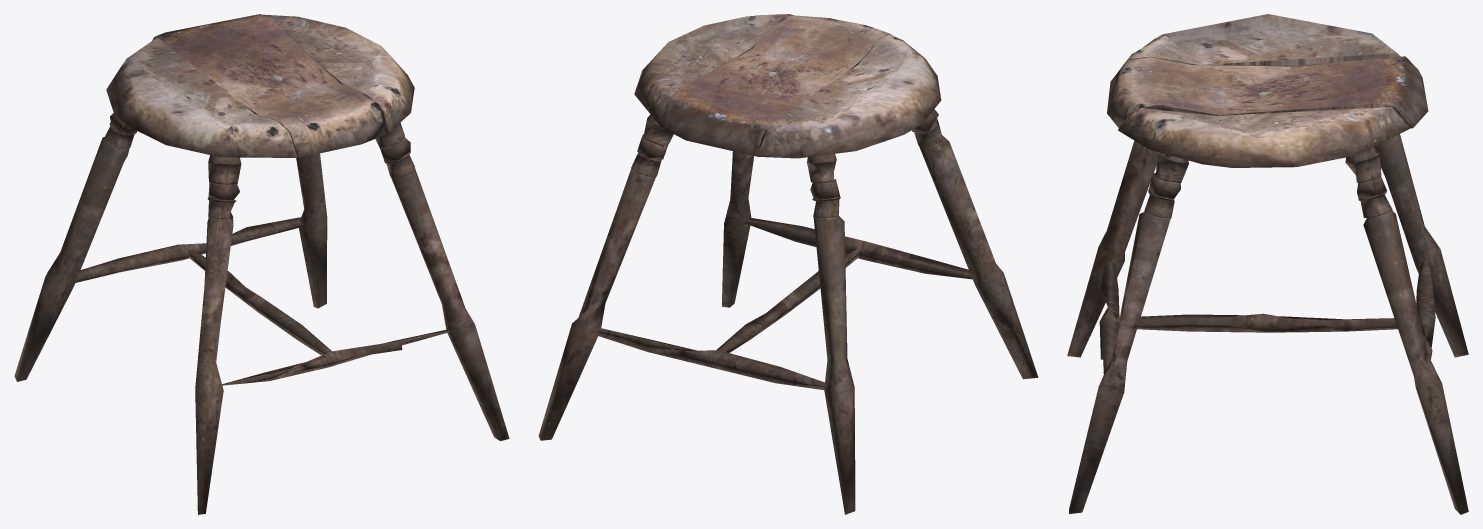
Rendered from wooden_stool_01.glb.
3 views of the same model, side by side, from view 1: azimuth 30°, elevation 25°; view 2: azimuth 150°, elevation 25°; view 3: azimuth 270°, elevation 25° (orthographic). The views are drawn at different scales.
Parts seen in each view (by area): view 1: wooden_stool_01; view 2: wooden_stool_01; view 3: wooden_stool_01.
Boxes of the visible parts, <box> form: wooden_stool_01: <box>14,14,509,514</box>; wooden_stool_01: <box>538,14,1038,514</box>; wooden_stool_01: <box>1067,14,1468,514</box>.
Bounding box in the file's own units: 0.4224 × 0.4365 × 0.4411.
1 material, 1 textured.
